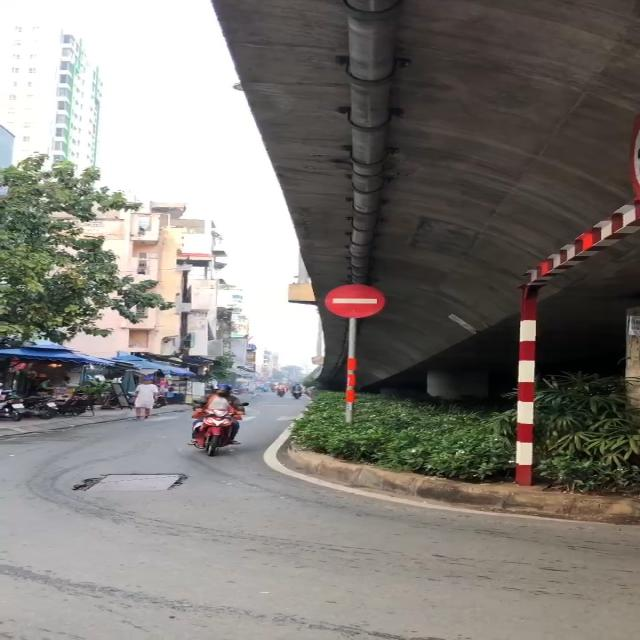Bien bao cam di nguoc chieu: (316, 278, 389, 320)
